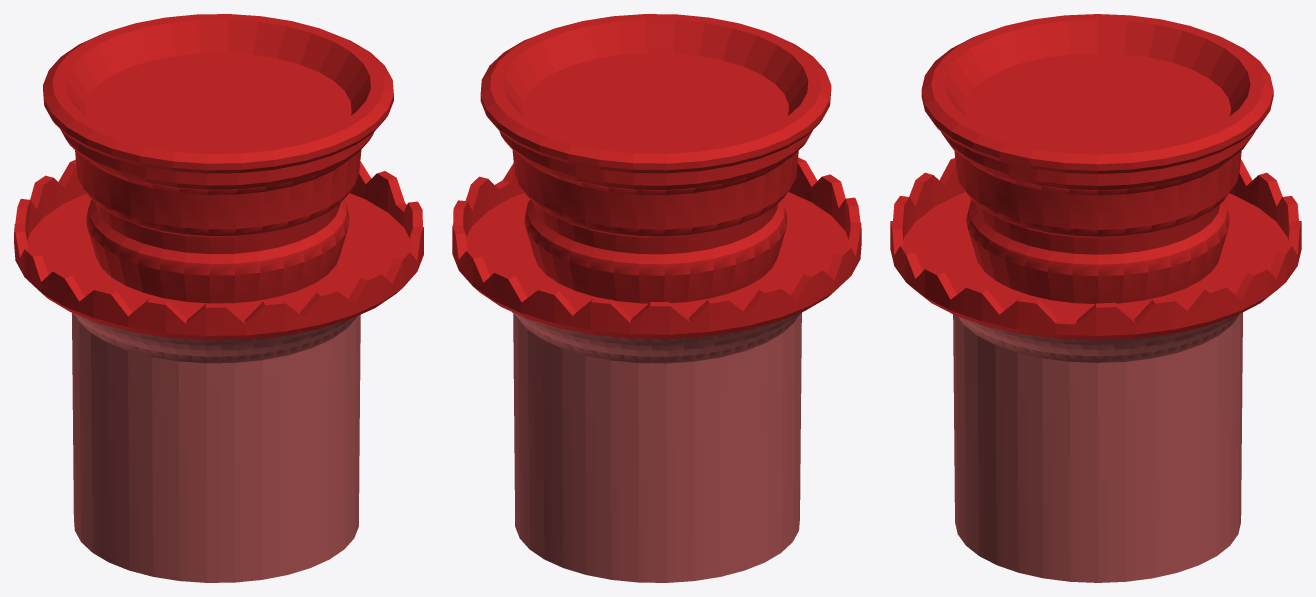
Rendered from Planter_Cylindrical_Fountain.fbx.
3 views of the same model, side by side, from view 1: azimuth 30°, elevation 25°; view 2: azimuth 150°, elevation 25°; view 3: azimuth 270°, elevation 25° (orthographic).
Parts seen in each view (by area): view 1: Planter_Cylindrical; view 2: Planter_Cylindrical; view 3: Planter_Cylindrical.
Part boxes in pixels (x1,y1,x2,y2): Planter_Cylindrical: (14, 14, 423, 582); Planter_Cylindrical: (452, 14, 861, 582); Planter_Cylindrical: (890, 14, 1301, 582).
Size of the model in its own units: 210 by 247 by 210.
